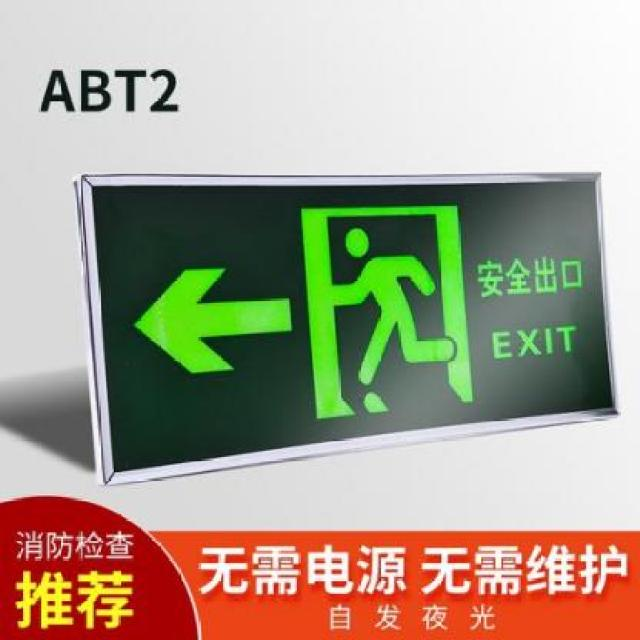exit_sign: (83, 183, 615, 422)
